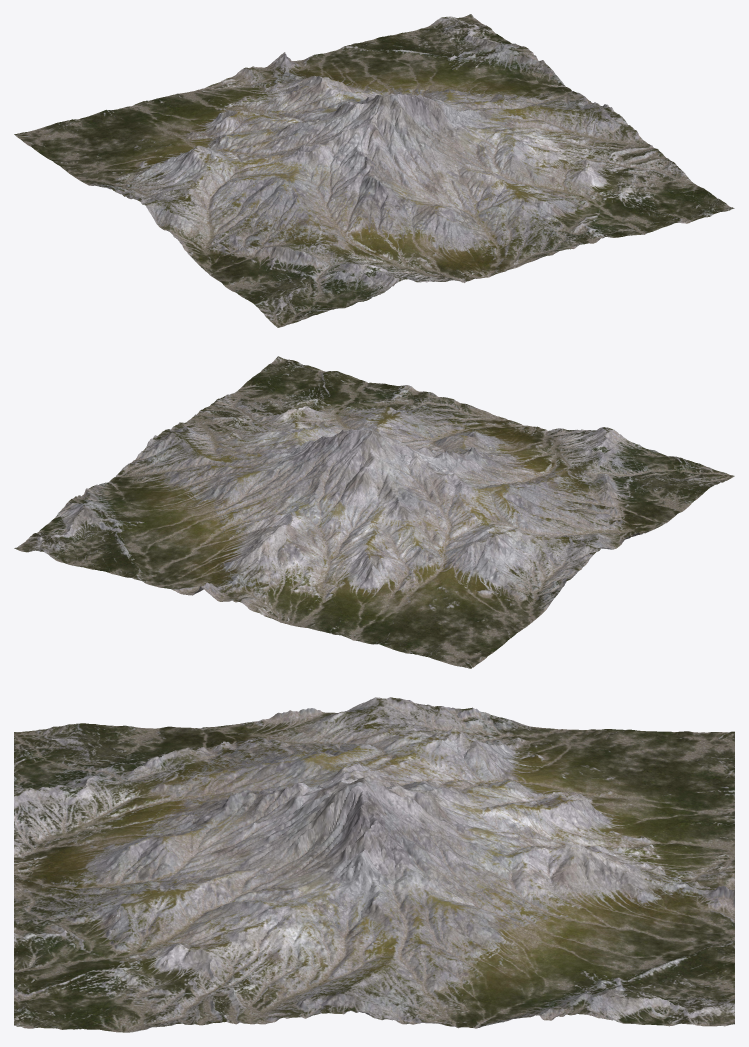
File: hero_mountain_optimized.glb
The picture shows the model from 3 angles, top to bottom: view 1: azimuth 30°, elevation 25°; view 2: azimuth 150°, elevation 25°; view 3: azimuth 270°, elevation 25°; orthographic projection. The views are drawn at different scales.
Parts seen in each view (by area): view 1: Object_2; view 2: Object_2; view 3: Object_2.
Part boxes in pixels (x1,y1,x2,y2): Object_2: [14, 14, 734, 327]; Object_2: [14, 356, 734, 668]; Object_2: [14, 697, 734, 1032].
Bounding box in the file's own units: 2 × 0.3455 × 2.
1 material, 1 textured.
